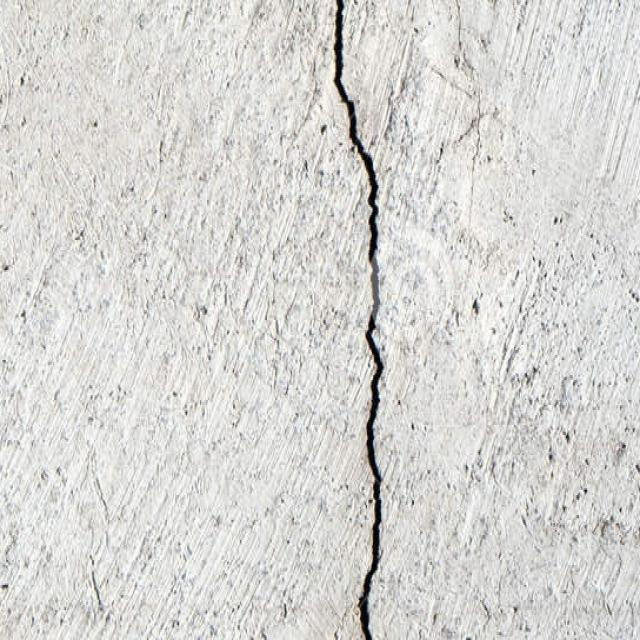Longitudinal: (309, 0, 423, 640)
